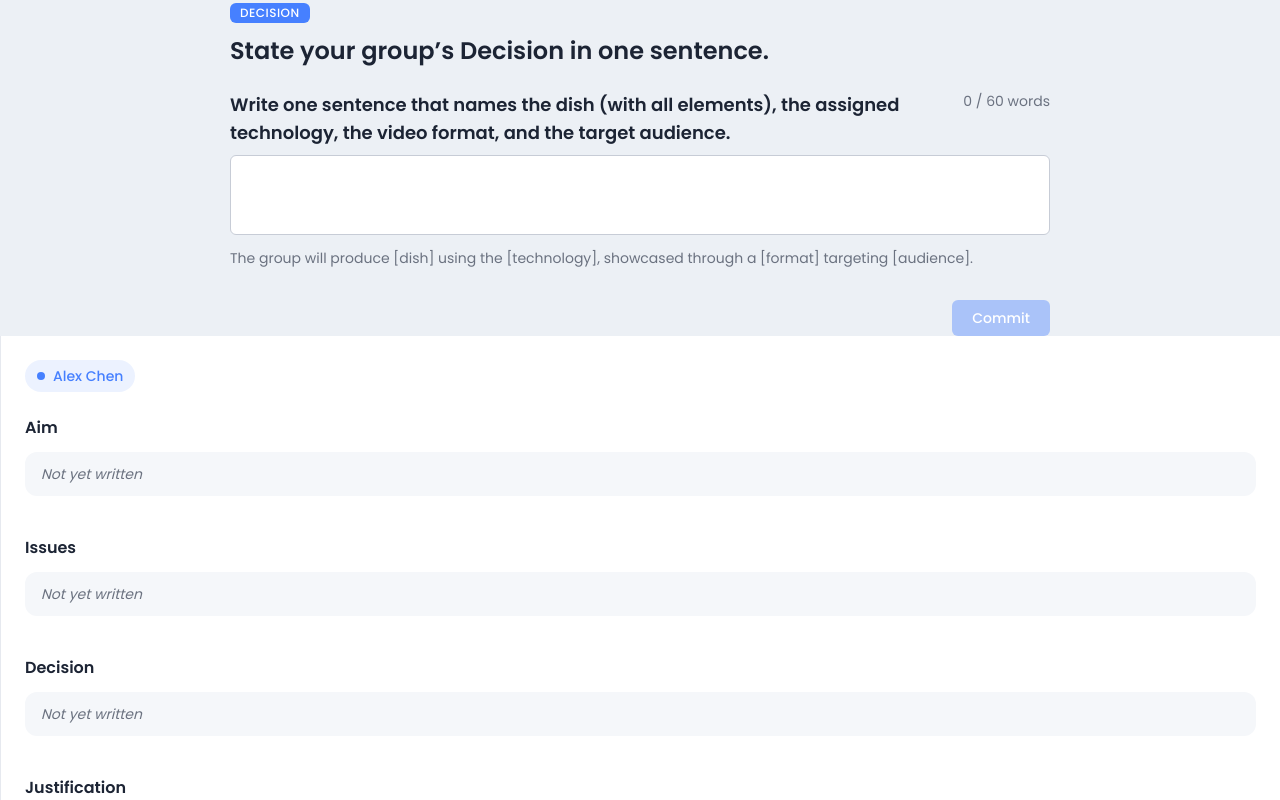
Test: SlideScaffold — guided mode › Cmd+Enter commits when prompt is filled
Type "The group will produce custard French toast using the Thermomix." into the text box named "Write one sentence that names the dish (with all elements), the assigned technology, the video format, and the target au" at {"x": 640, "y": 195}, box top-left (230, 155), bottom-right (1050, 235)
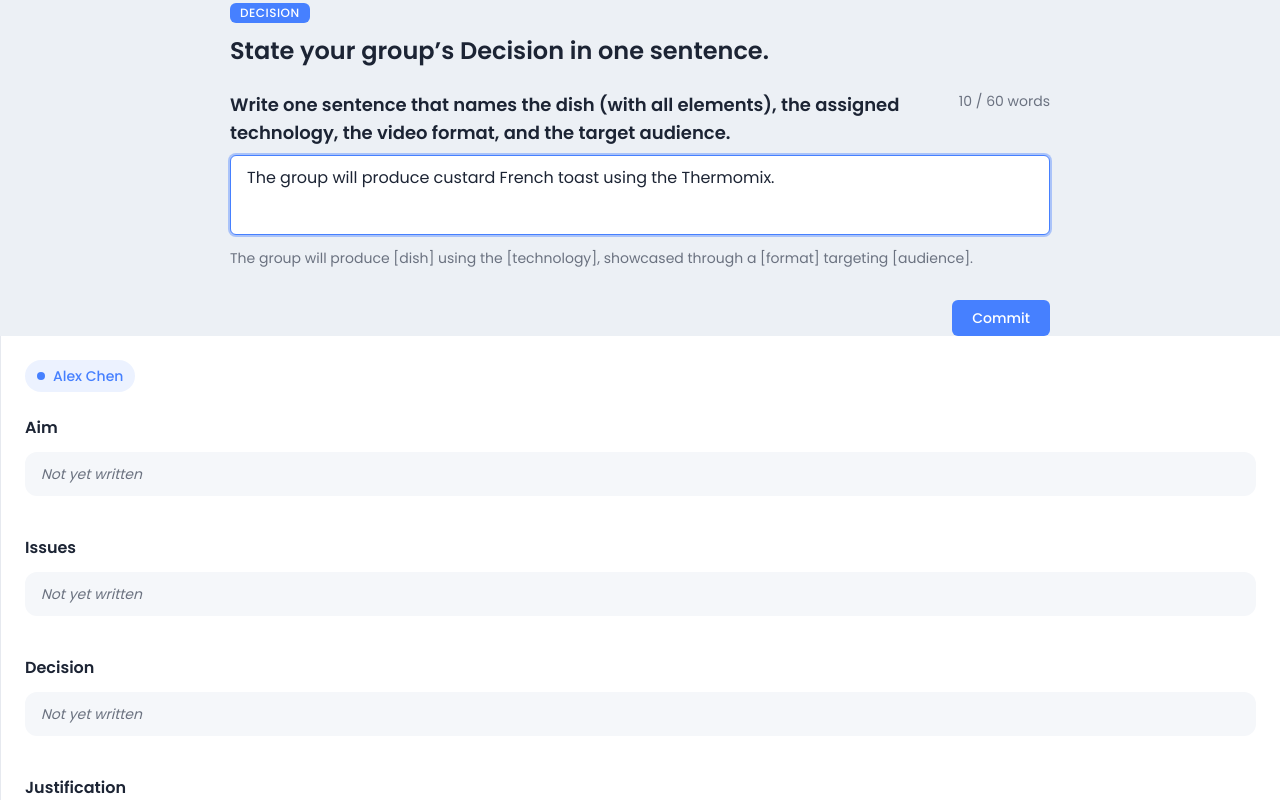
Type keys "{Meta>}{Enter}{/Meta}"
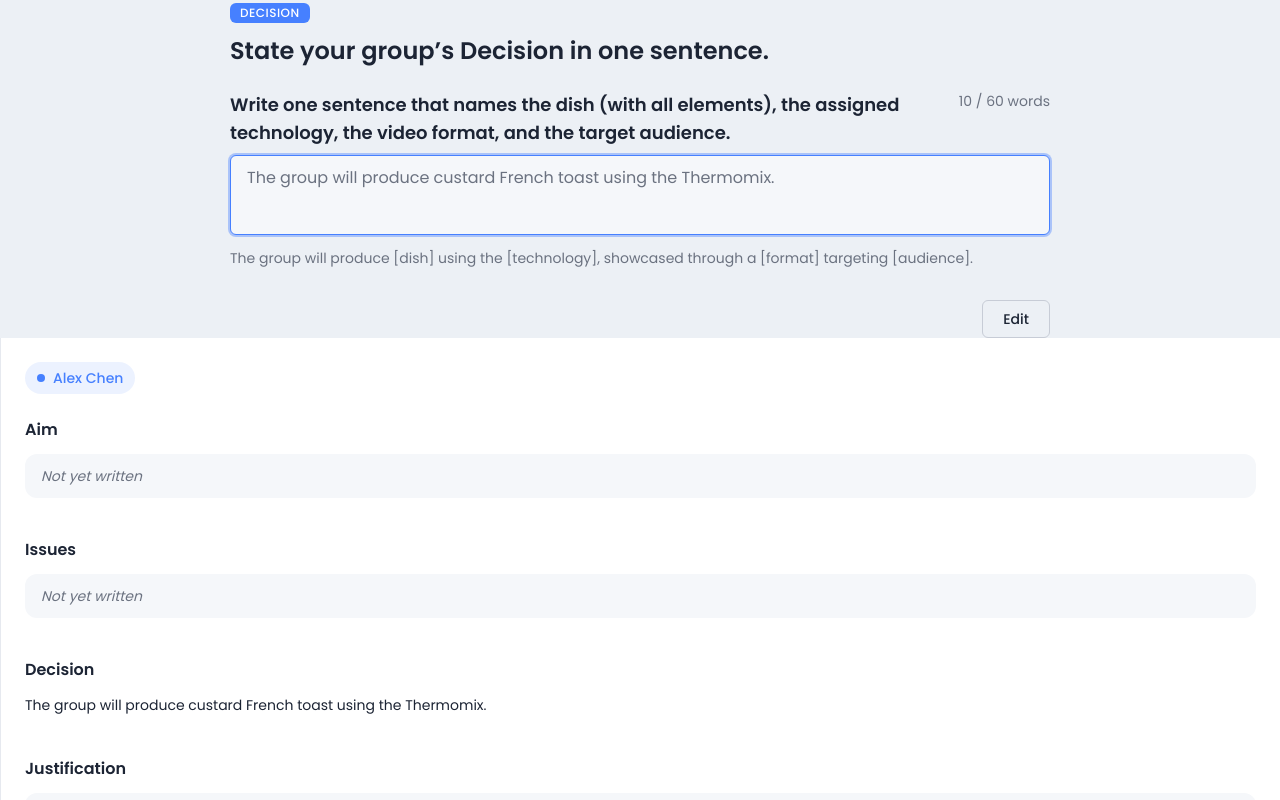
Now the button "Edit" is shown, box top-left (982, 300), bottom-right (1050, 338)
Now the button "Commit" is gone
